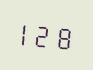eight: (55, 20, 72, 52)
one: (18, 17, 35, 49)
two: (37, 19, 54, 50)
